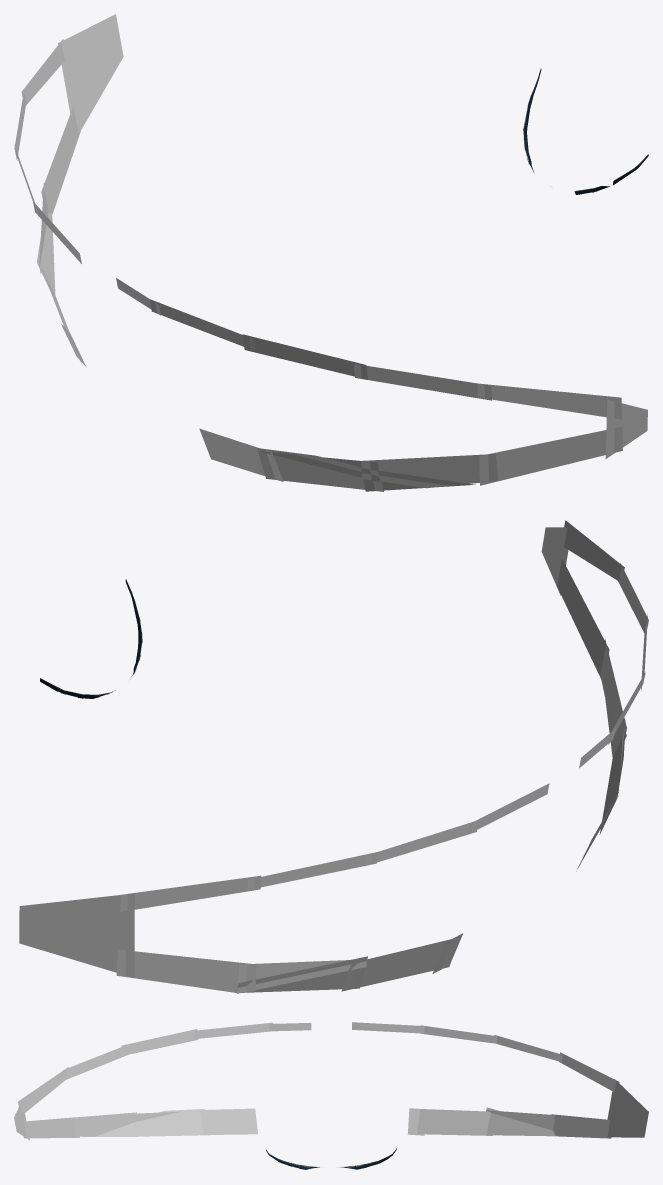
File: Rails_FL.FBX
3 renders of one model, top to bottom at view 1: azimuth 30°, elevation 25°; view 2: azimuth 150°, elevation 25°; view 3: azimuth 270°, elevation 25°, orthographic. The views are drawn at different scales.
Parts seen in each view (by area): view 1: FL_2_11, FL_2_10, FL_2_2, FL_2_9, FL_2_3, FL_2_9_Main, FL_1_8, FL_2_12, FL_2_8, FL_1_10, FL_1_4; view 2: FL_2_2, FL_2_3, FL_2_11, FL_2_4, FL_1_5, FL_1_4, FL_2_10, FL_2_5, FL_2_12, FL_2_9_Main, FL_2_6; view 3: FL_2_3, FL_1_5, FL_2_10, FL_2_2, FL_2_11, FL_2_9_Main, FL_1_8, FL_2_4, FL_2_9, FL_1_4, FL_2_8, FL_2_5 (+5 smaller).
Boxes of the visible parts, bbox=[...] form: FL_2_11: bbox=[477, 383, 622, 485]; FL_2_10: bbox=[354, 363, 497, 488]; FL_2_2: bbox=[58, 14, 123, 133]; FL_2_9: bbox=[242, 334, 379, 482]; FL_2_3: bbox=[21, 39, 80, 214]; FL_2_9_Main: bbox=[257, 448, 383, 491]; FL_1_8: bbox=[199, 428, 283, 481]; FL_2_12: bbox=[605, 399, 647, 458]; FL_2_8: bbox=[150, 299, 255, 350]; FL_1_10: bbox=[361, 468, 475, 491]; FL_1_4: bbox=[37, 212, 55, 294]; FL_2_2: bbox=[19, 893, 134, 977]; FL_2_3: bbox=[116, 875, 261, 992]; FL_2_11: bbox=[557, 520, 624, 678]; FL_2_4: bbox=[237, 852, 377, 993]; FL_1_5: bbox=[341, 937, 459, 991]; FL_1_4: bbox=[236, 956, 367, 992]; FL_2_10: bbox=[600, 563, 648, 736]; FL_2_5: bbox=[365, 820, 478, 865]; FL_2_12: bbox=[541, 527, 568, 595]; FL_2_9_Main: bbox=[599, 735, 624, 834]; FL_2_6: bbox=[467, 783, 549, 834]; FL_2_3: bbox=[551, 1052, 619, 1138]; FL_1_5: bbox=[417, 1109, 492, 1135]; FL_2_10: bbox=[63, 1046, 136, 1136]; FL_2_2: bbox=[607, 1079, 648, 1137]; FL_2_11: bbox=[18, 1067, 79, 1138]; FL_2_9_Main: bbox=[134, 1109, 209, 1136]; FL_1_8: bbox=[200, 1108, 257, 1134]; FL_2_4: bbox=[486, 1035, 562, 1130]; FL_2_9: bbox=[121, 1029, 198, 1122]; FL_1_4: bbox=[486, 1107, 555, 1136]; FL_2_8: bbox=[194, 1022, 273, 1039]; FL_2_5: bbox=[420, 1025, 497, 1043].
Bounding box in the file's own units: 43.48 × 16.51 × 79.91.
